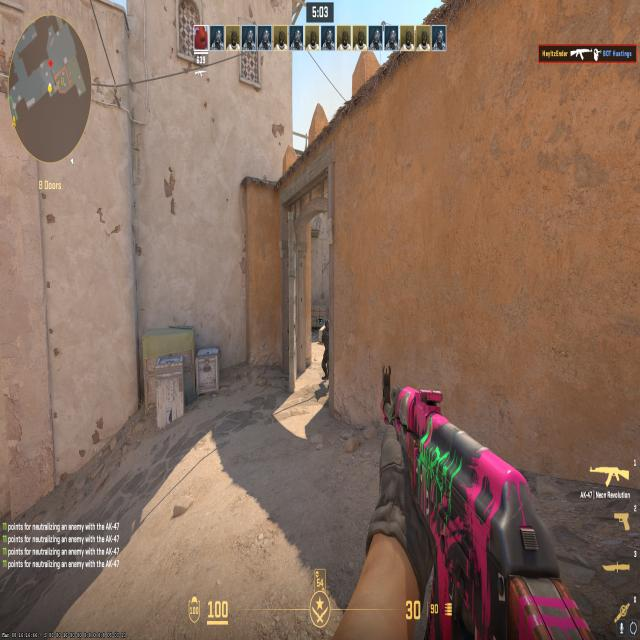ct: (317, 315, 331, 389)
